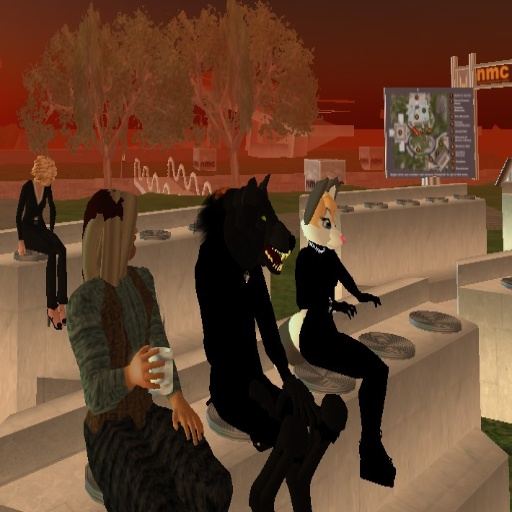hand: (121, 353, 175, 402), (169, 397, 204, 448), (335, 298, 357, 323), (359, 292, 382, 311), (17, 241, 26, 256)
